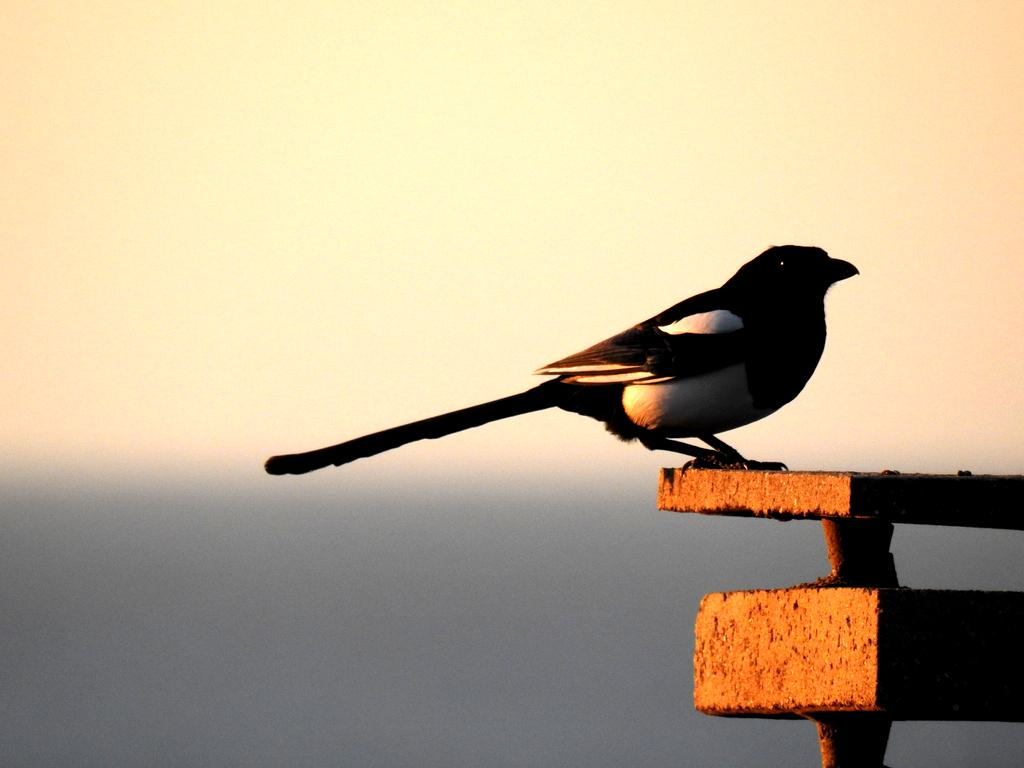PicaPica: (264, 244, 861, 476)
